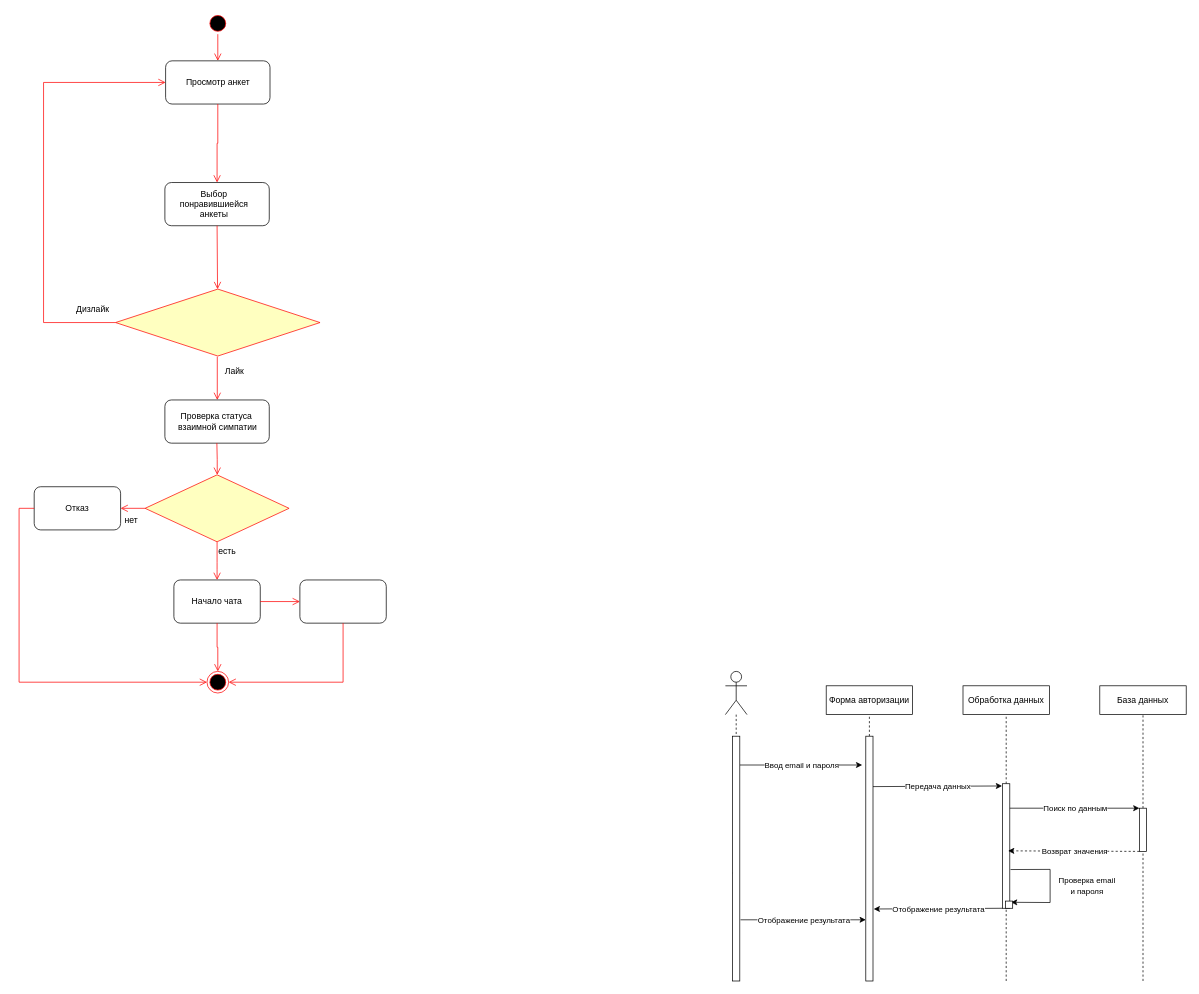
Image size: 1199x994. Some labels were removed from this diagram. Here are the shapes that lost their labels. From the top down, the centre of each, then its label:
At point 217,322: "Взаимодействие с анкетой".
At point 216,508: "Взаимная симпатия".
At point 342,601: "Отправка сообщения".
At point 736,693: "Гость".
